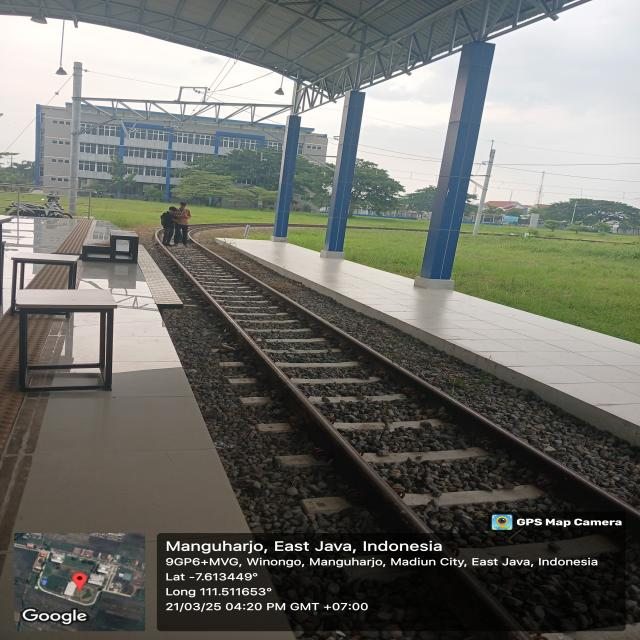rail-detection: (190, 236, 640, 539), (154, 230, 439, 540), (453, 570, 520, 630)
